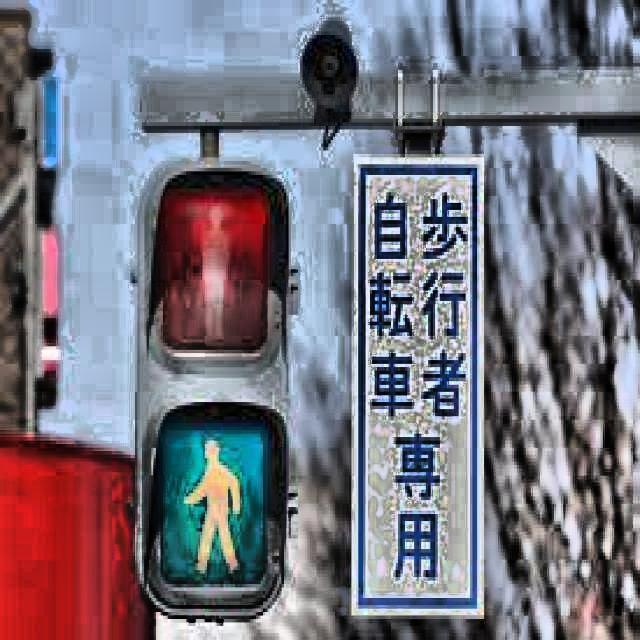semaforo pedestre: (64, 123, 392, 625)
